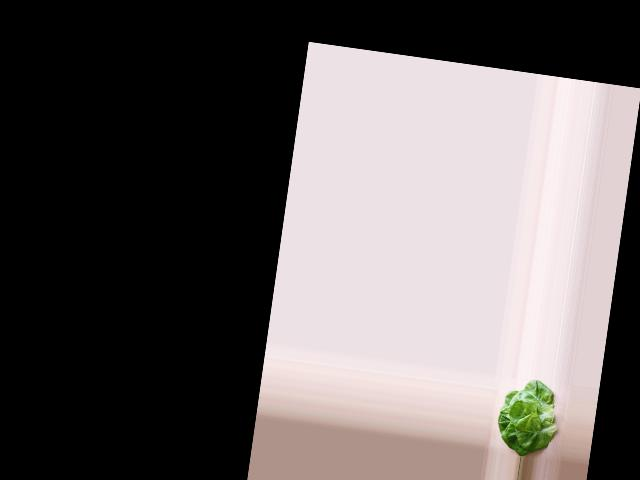lettuce: (493, 377, 560, 458)
